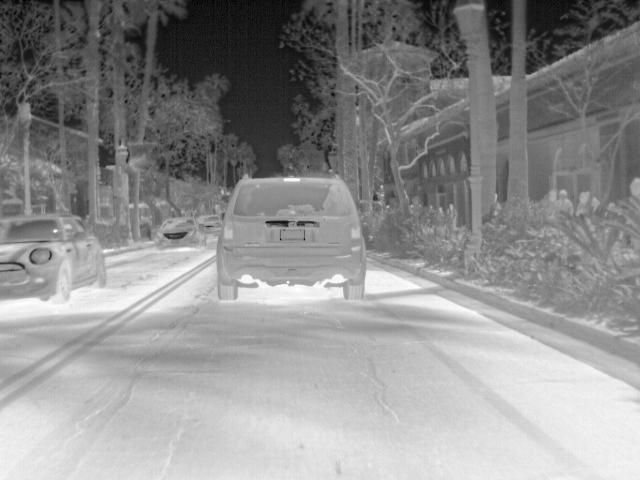car: (218, 173, 366, 301), (0, 214, 106, 302), (152, 216, 207, 250), (196, 214, 222, 234)
person: (575, 190, 601, 216), (554, 190, 575, 218), (435, 204, 449, 238), (443, 204, 459, 232), (424, 204, 437, 238), (545, 190, 560, 208), (627, 176, 639, 197)
